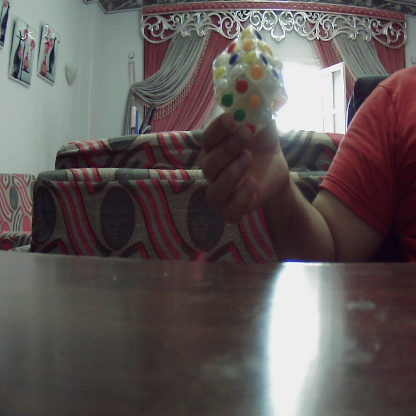Rubix Cube: (211, 37, 294, 124)
